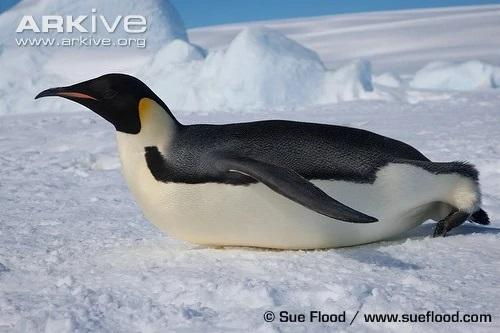emporer: (27, 52, 491, 263)
